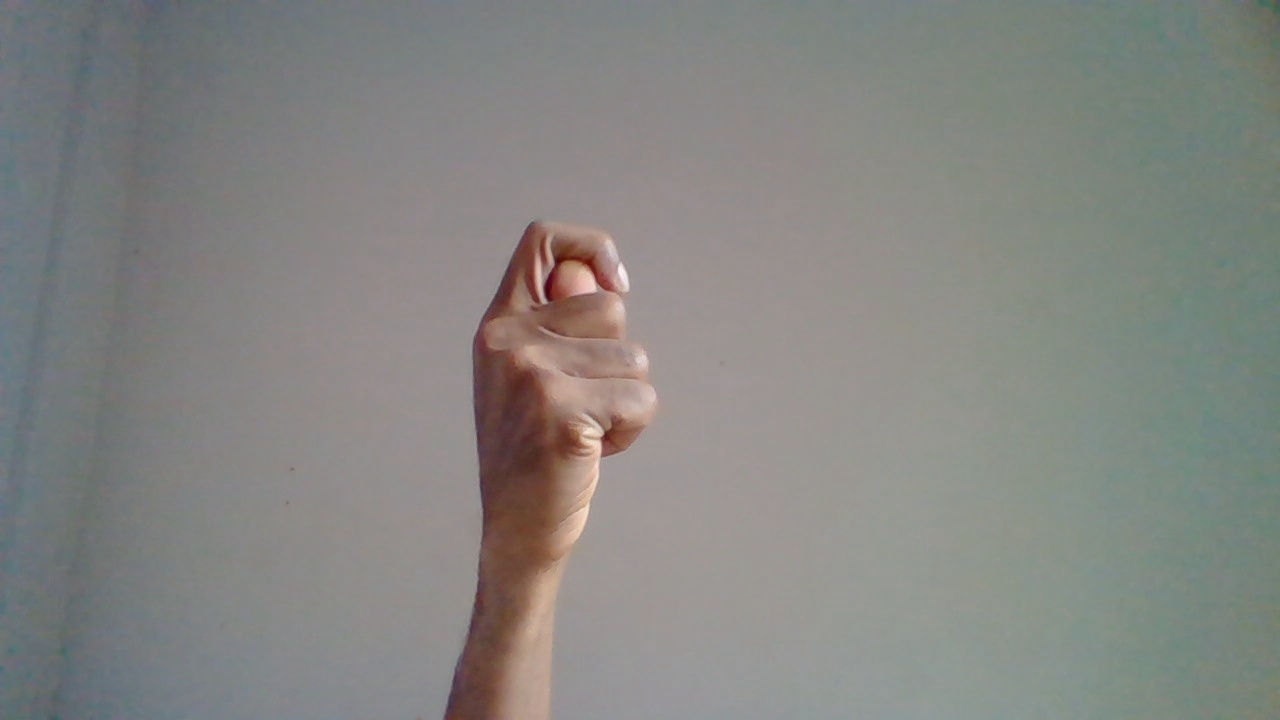che: (458, 215, 676, 695)
